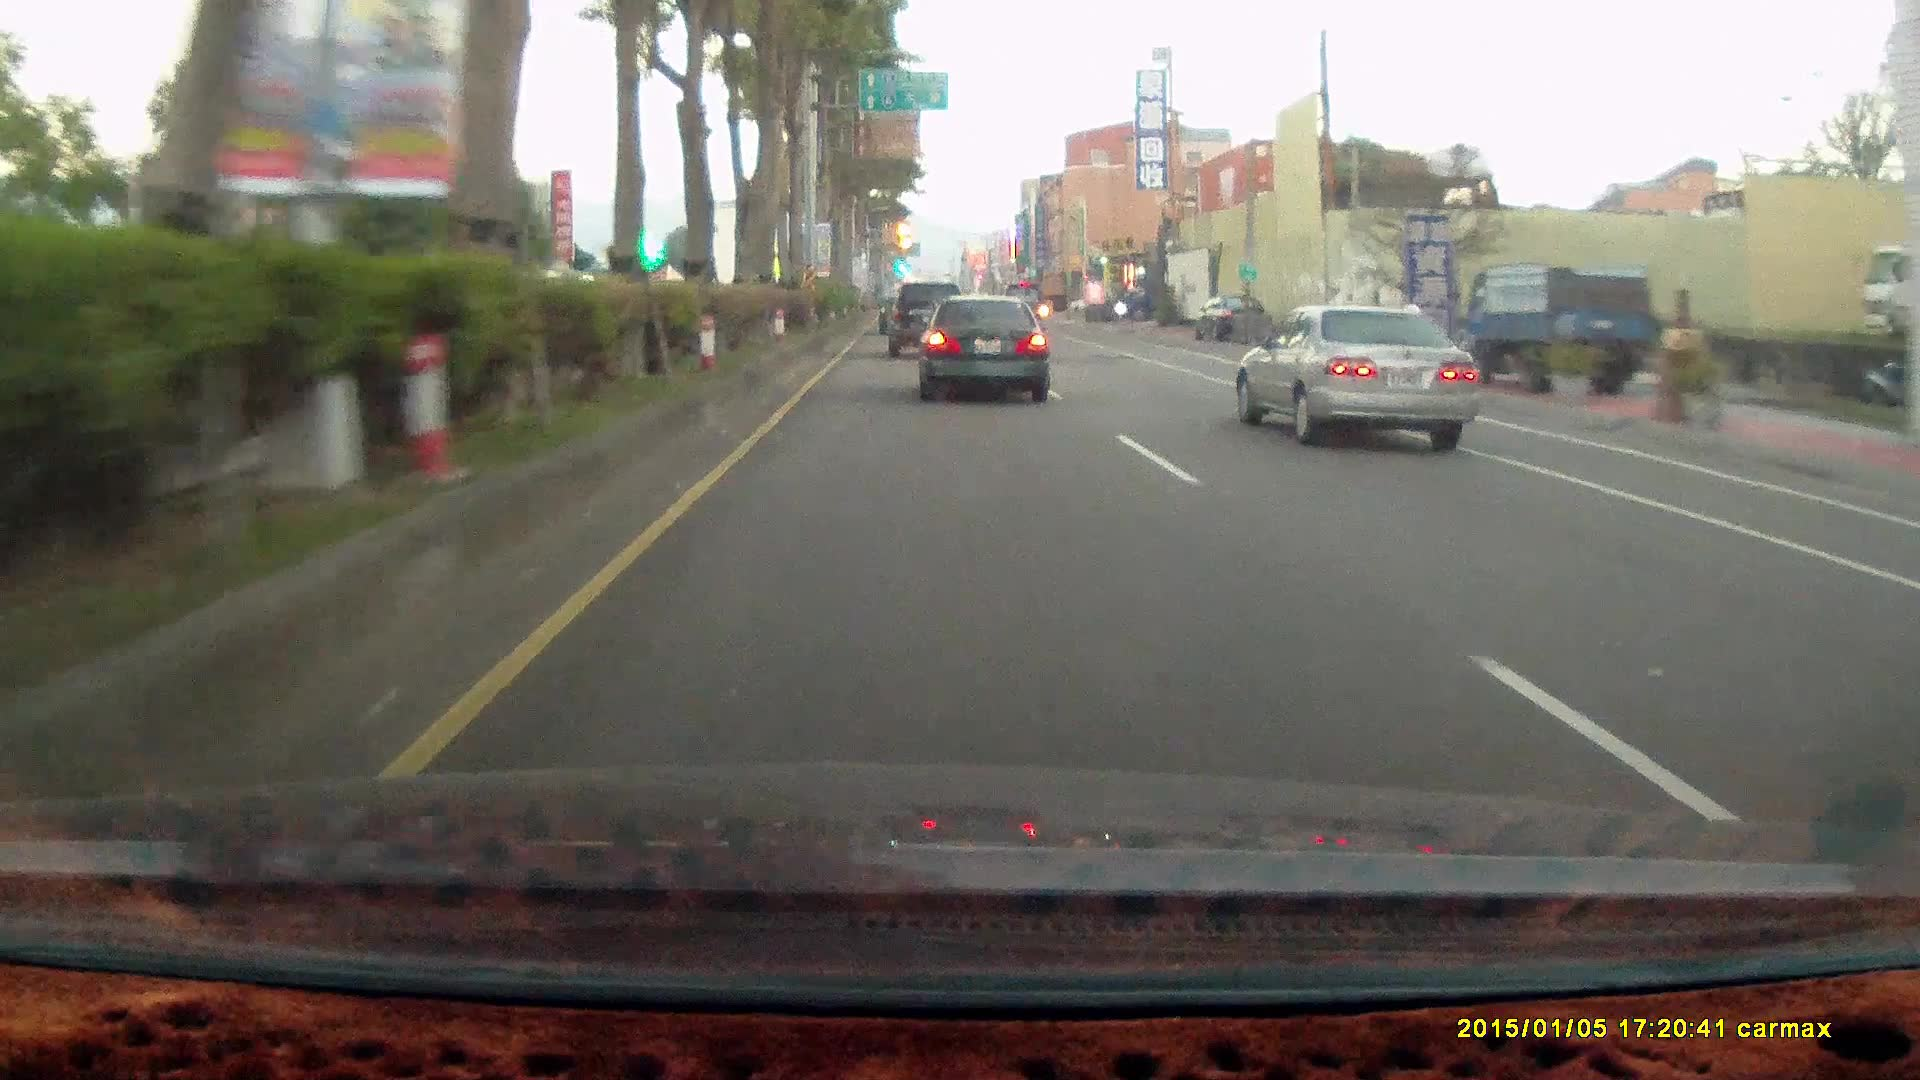vehicle: (1228, 301, 1487, 450), (1233, 301, 1480, 450), (1458, 258, 1652, 397), (1462, 262, 1651, 393), (913, 290, 1048, 398), (920, 295, 1054, 402), (886, 278, 967, 355), (1196, 294, 1276, 344), (1113, 278, 1184, 320)
